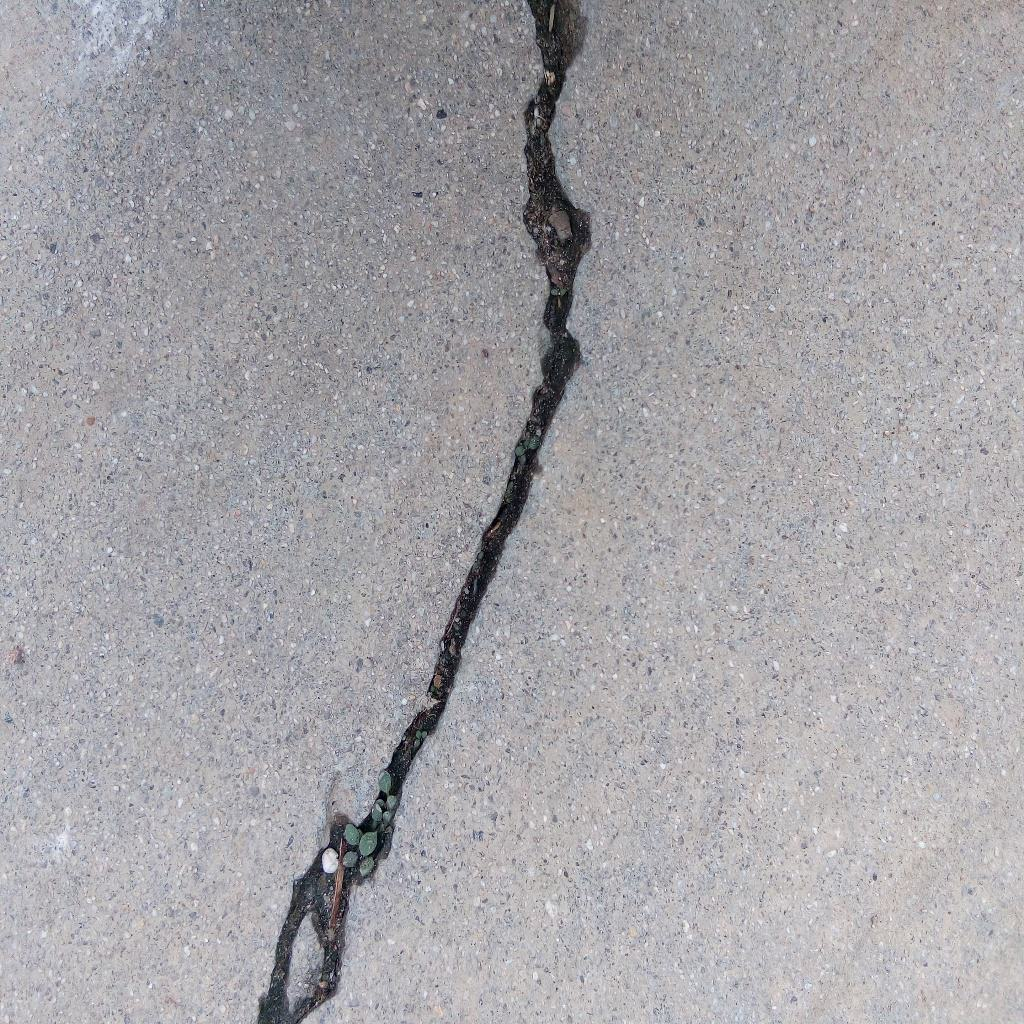Crack: (255, 1, 591, 1024)
